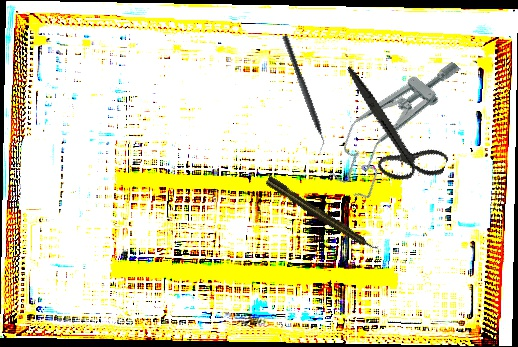Chopper: (274, 34, 332, 156)
Handpiece: (264, 174, 380, 256)
Iris Scissors: (315, 64, 468, 196)
Speculum: (317, 38, 471, 204)
